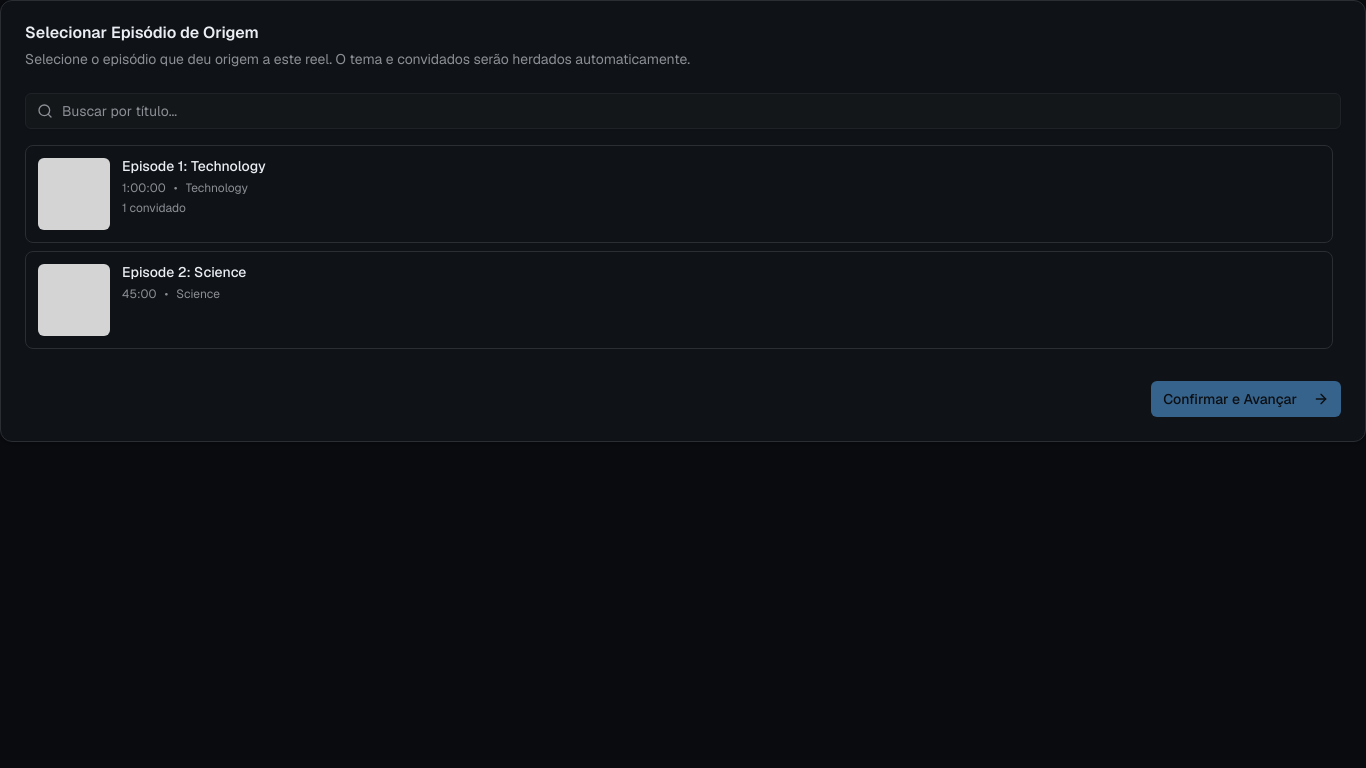
Test case: Phase0ParentSelection › Advance button › shows error when API fails
Click the button "Episode 1: Technology" at (74, 194), box [25,145,1333,243]
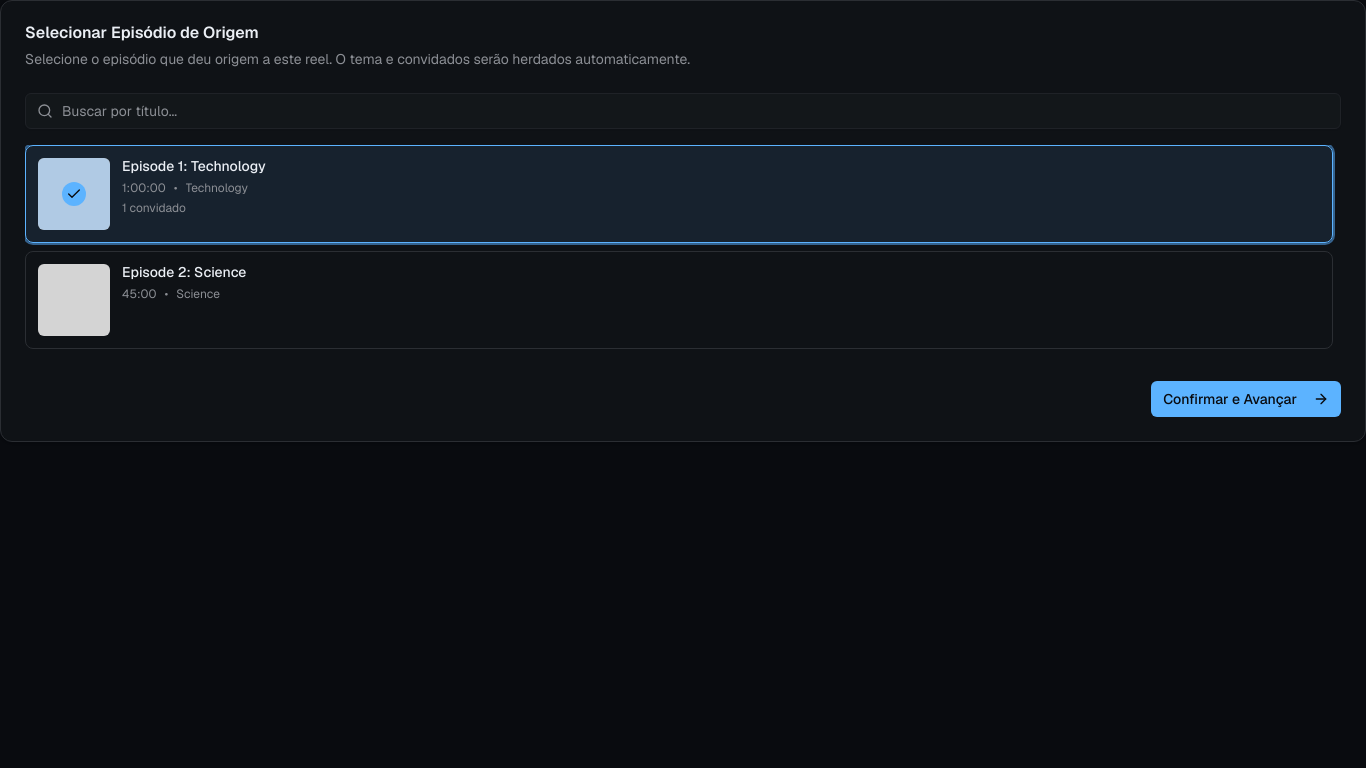
Click the button "Confirmar e Avançar" at (1246, 399), box [1151,381,1341,417]
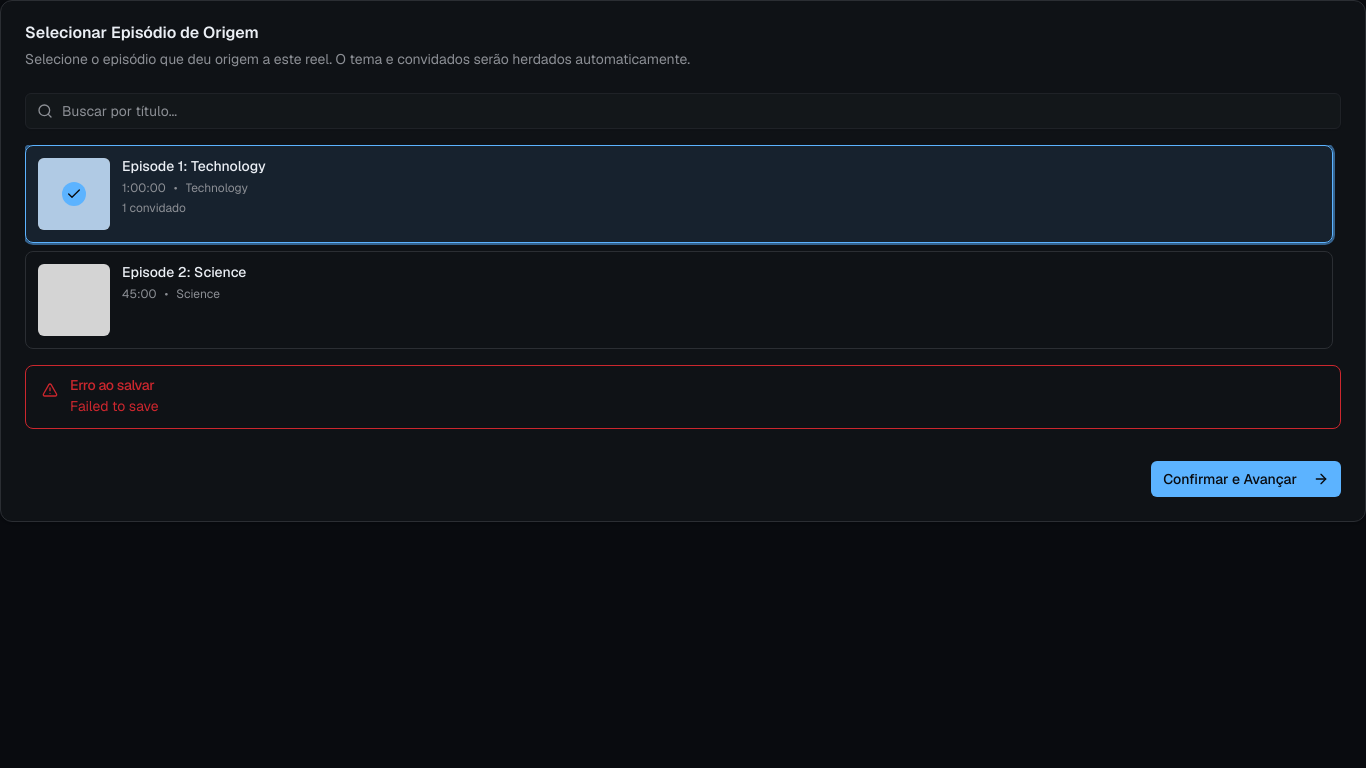
Check: the text "Failed to save" is shown, box [70,397,159,415]
